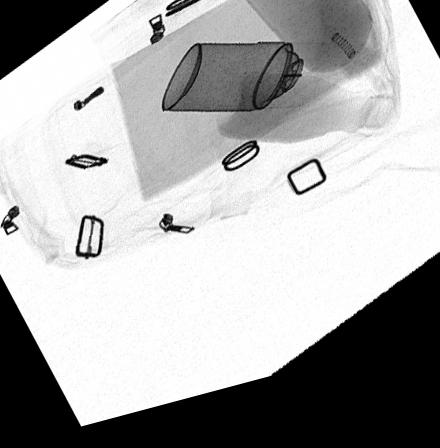Sprayer: (162, 53, 328, 124)
